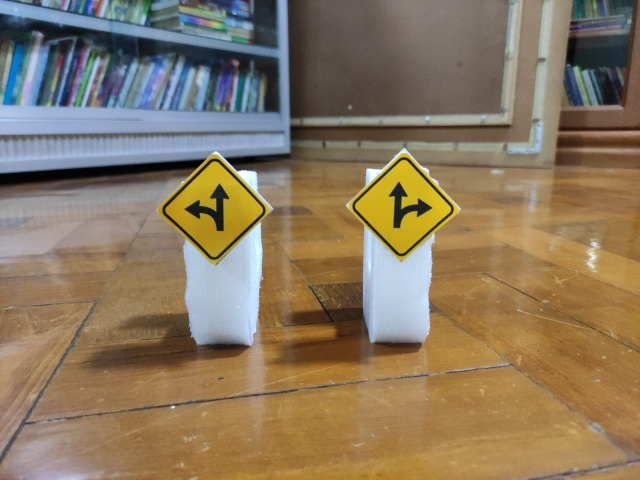Straight Or Left Sign: (159, 154, 269, 264)
Straight Or Right Sign: (351, 153, 457, 257)
